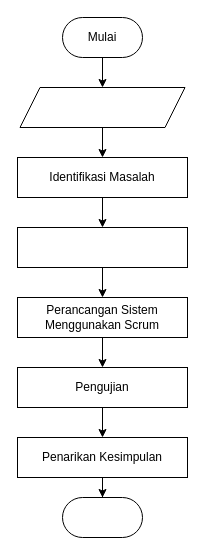
This 205x555 diagram has some shape labels left out. The centre of each missing label's shape, as x and y in pixels:
"Analisis Kebutuhan" belongs at (x=102, y=247).
"Pengumpulan Data" belongs at (x=102, y=107).
"Selesai" belongs at (x=102, y=517).
